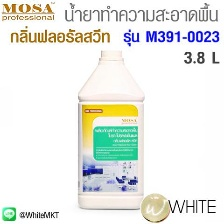cleaning_solution: (76, 45, 146, 212)
